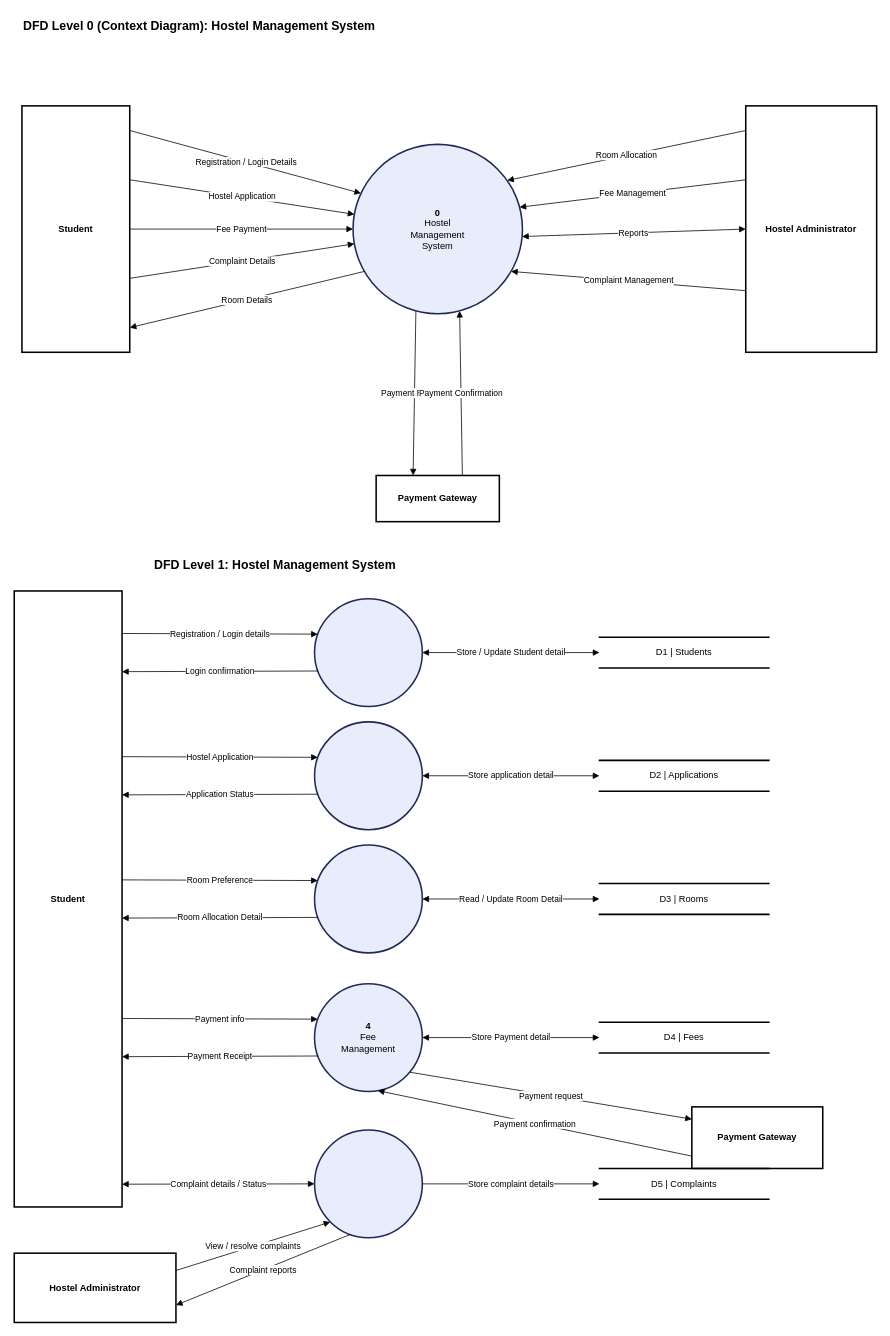
The diagram is 890 pixels wide and 1336 high, and some of its shapes have lost their labels. Here are the shapes that lost their labels. From the top down, the centre of each, then its label:
At (x=368, y=652): "1 Register / Login".
At (x=368, y=775): "2 Apply for Hostel".
At (x=368, y=898): "3 Room Allocation".
At (x=368, y=1183): "5 Complaint Management".
